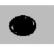correct: (6, 13, 37, 37)
